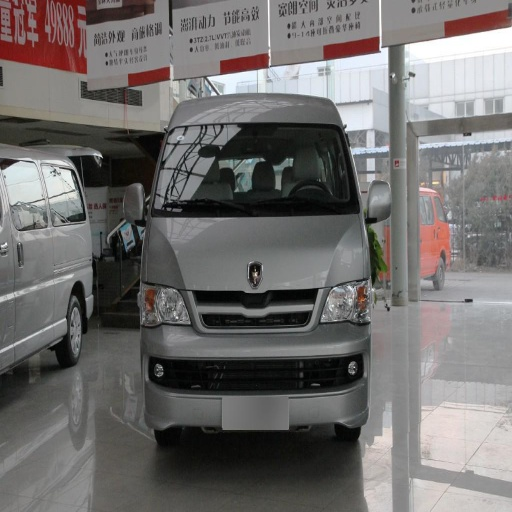back_glass: (178, 125, 274, 182)
front_bumper: (140, 260, 368, 428)
front_glass: (170, 126, 353, 215)
front_right_light: (139, 279, 190, 325)
hood: (152, 214, 365, 290)
